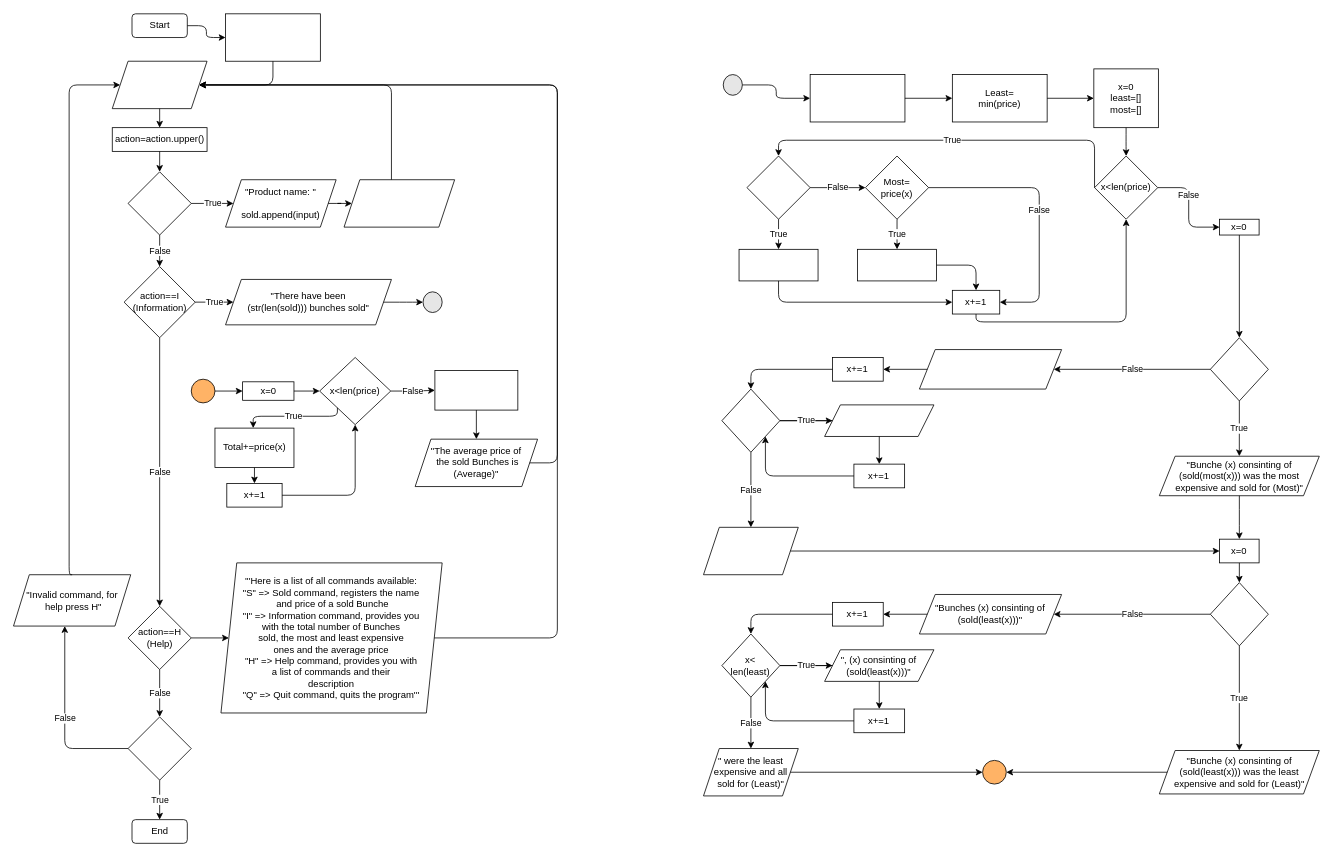
Some shapes in this 1334 by 857 pixel diagram are drawn without their labels. Here are the shapes that lost their labels. From the top down, the centre of each, then its label:
the point at 272,37: Declare lists: sold=[] price=[]
the point at 159,84: "Main_Menu>" action=input
the point at 857,98: Most= max(price)
the point at 159,203: action==S (Sold)
the point at 399,203: "Product price: " price.append(input)
the point at 778,187: Least= price(x)
the point at 778,265: least.append(x)
the point at 897,265: most.append(x)
the point at 990,369: "Bunches (x) consinting of (sold(most(x)))"
the point at 1239,369: x+1== len(most)
the point at 476,390: Average= Total/len(price)
the point at 750,420: x< len(most)
the point at 879,420: ", (x) consinting of (sold(most(x)))"
the point at 750,551: " were the most expensive and all sold for (Most)"
the point at 1239,614: x+1== len(least)
the point at 159,748: action==Q (Quit)
